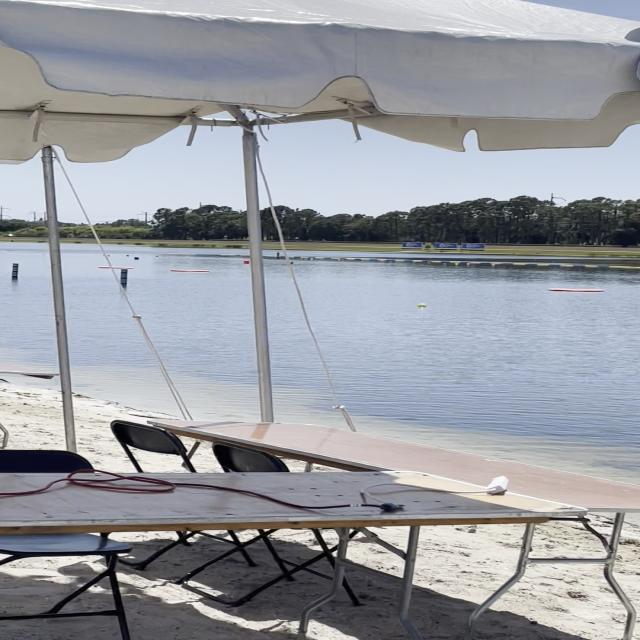buoy: (416, 303, 426, 309), (243, 259, 250, 264), (132, 256, 140, 260), (289, 260, 293, 264)
